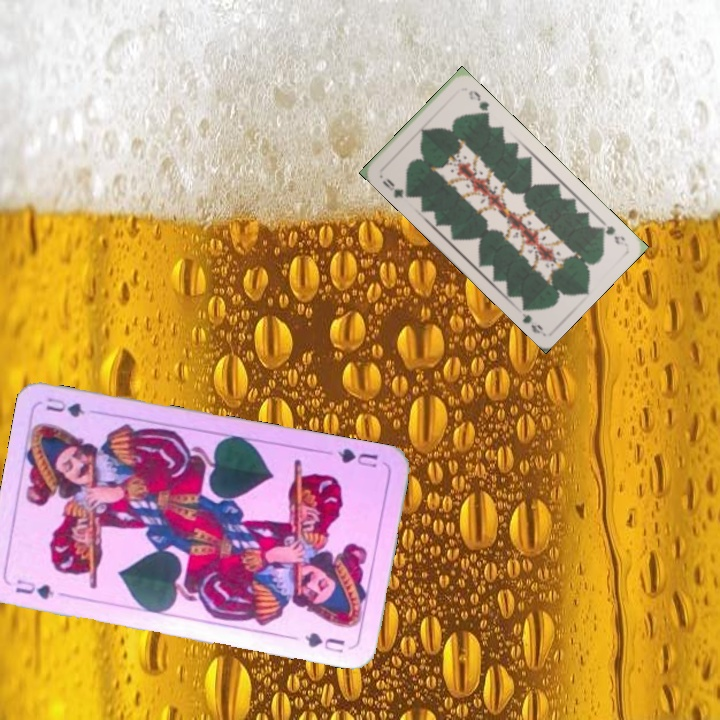G9: (594, 215, 628, 248), (378, 173, 412, 201)
GU: (334, 444, 381, 470), (11, 575, 56, 602)
